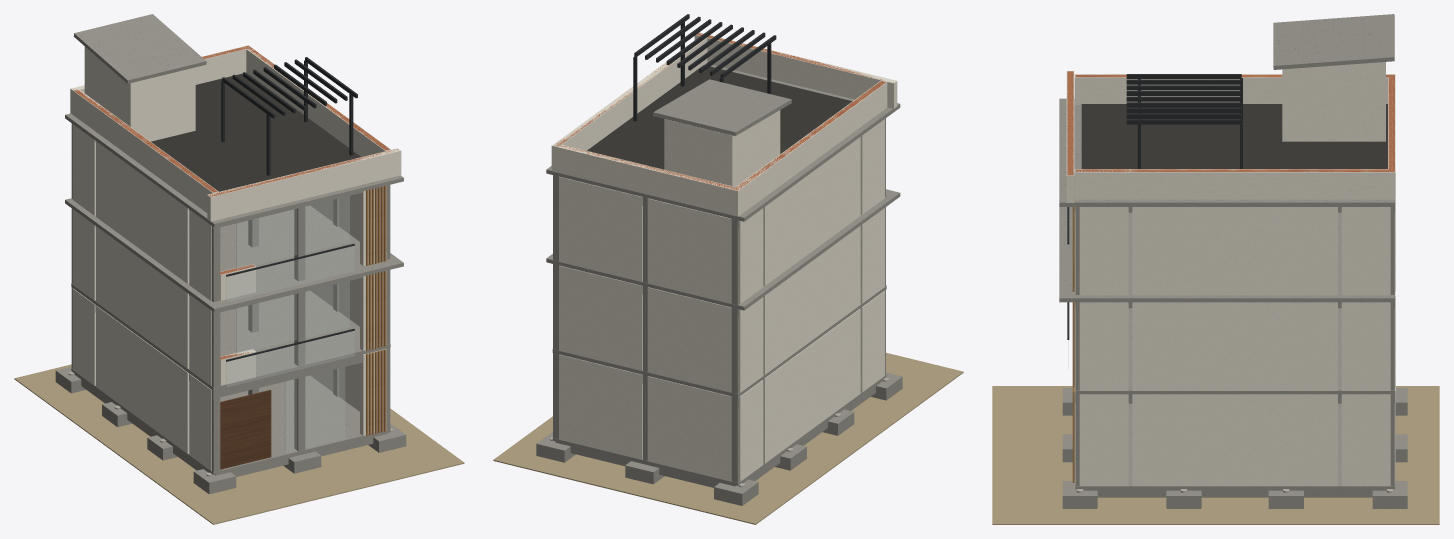
File: phase-5.glb
3 renders of one model, left to right at view 1: azimuth 30°, elevation 25°; view 2: azimuth 150°, elevation 25°; view 3: azimuth 270°, elevation 25°, orthographic. The views are drawn at different scales.
Bounding box in the file's own units: 10.2 × 13.63 × 14.
Materials: 10 (5 with a texture image).
